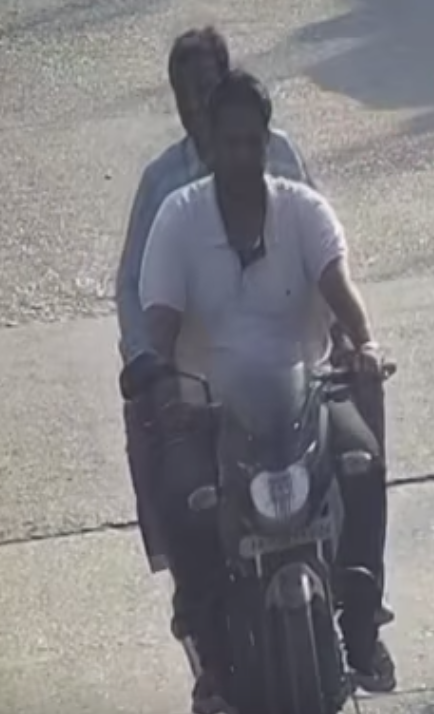h_bike: (145, 31, 384, 714)
h_nohelmet: (204, 70, 271, 194), (164, 26, 236, 138)
numplate: (239, 518, 345, 560)
